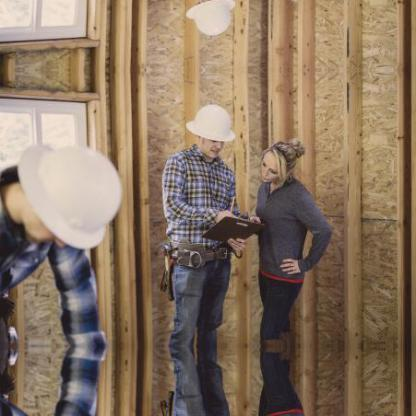helmet: (17, 143, 121, 253), (182, 98, 242, 146)
